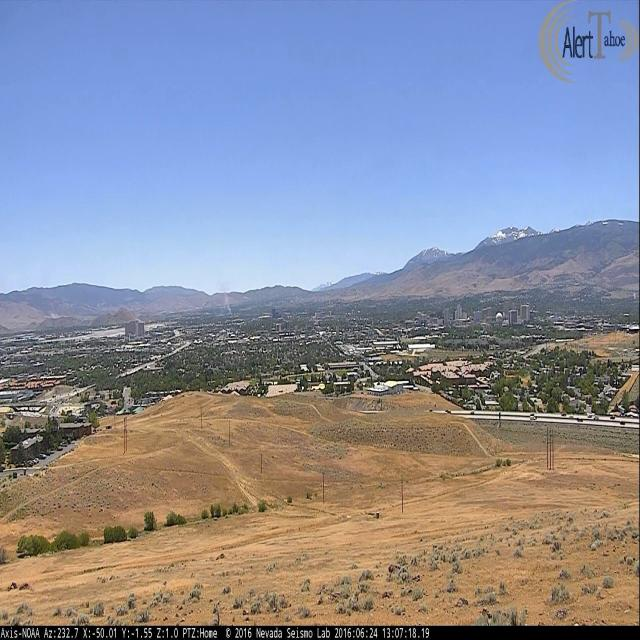smoke: (223, 294, 232, 314)
